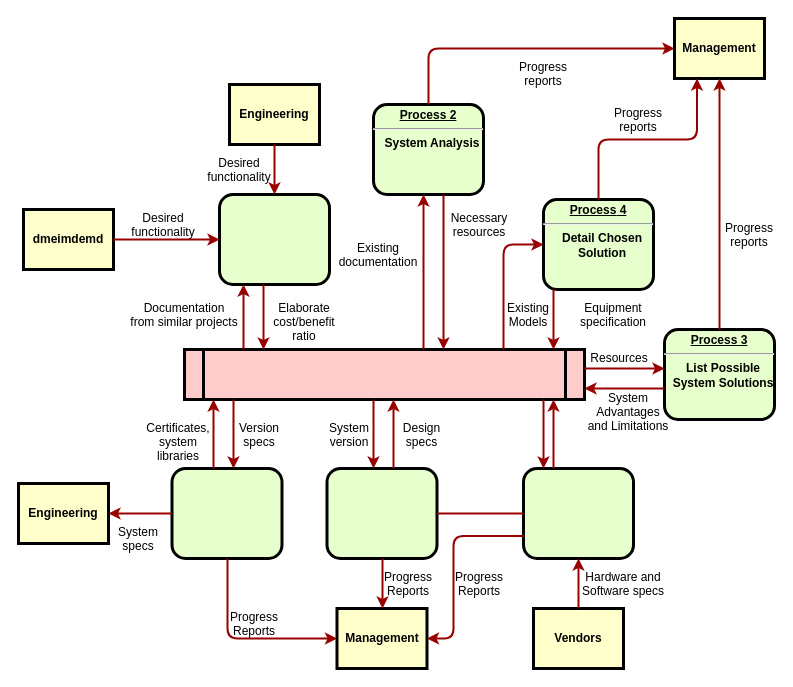
The diagram is 793 pixels wide and 687 high, and some of its shapes have lost their labels. The shapes that lost their labels are listed below. From the top down, each one's centre as x and y in pixels, then its label:
At point (274, 239): "Process 1 System Study Preparation".
At point (384, 374): "ON-DEMAND SYSTEM DEVELOPMENT".
At point (226, 513): "Process 6 New System Construction".
At point (381, 513): "Process 7 New System Startup and Testing".
At point (578, 513): "Process 5 New System Design".
